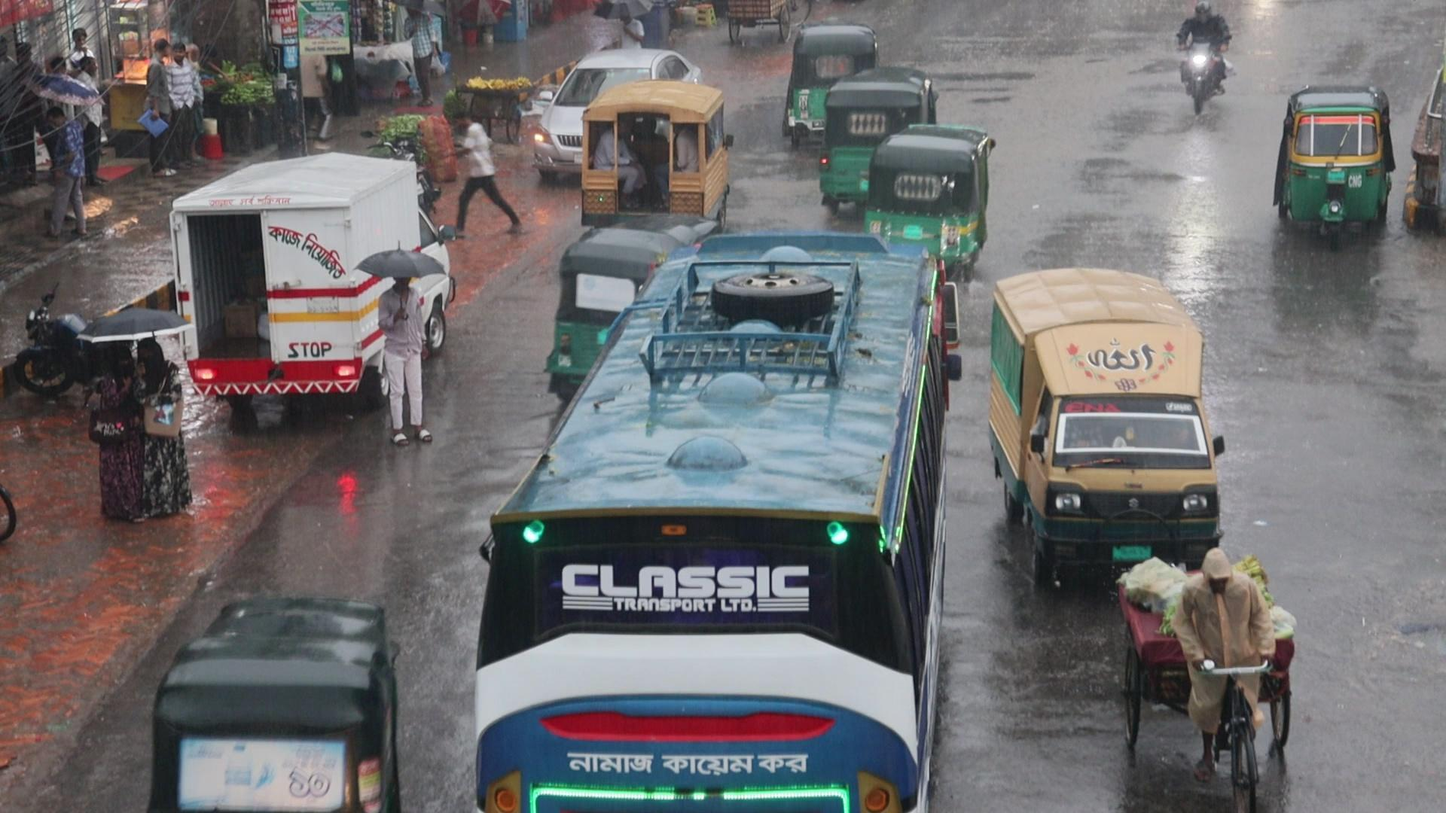Bike: (1174, 0, 1234, 116)
Bus: (467, 212, 970, 813)
Truck: (984, 261, 1228, 556), (580, 76, 735, 224)
